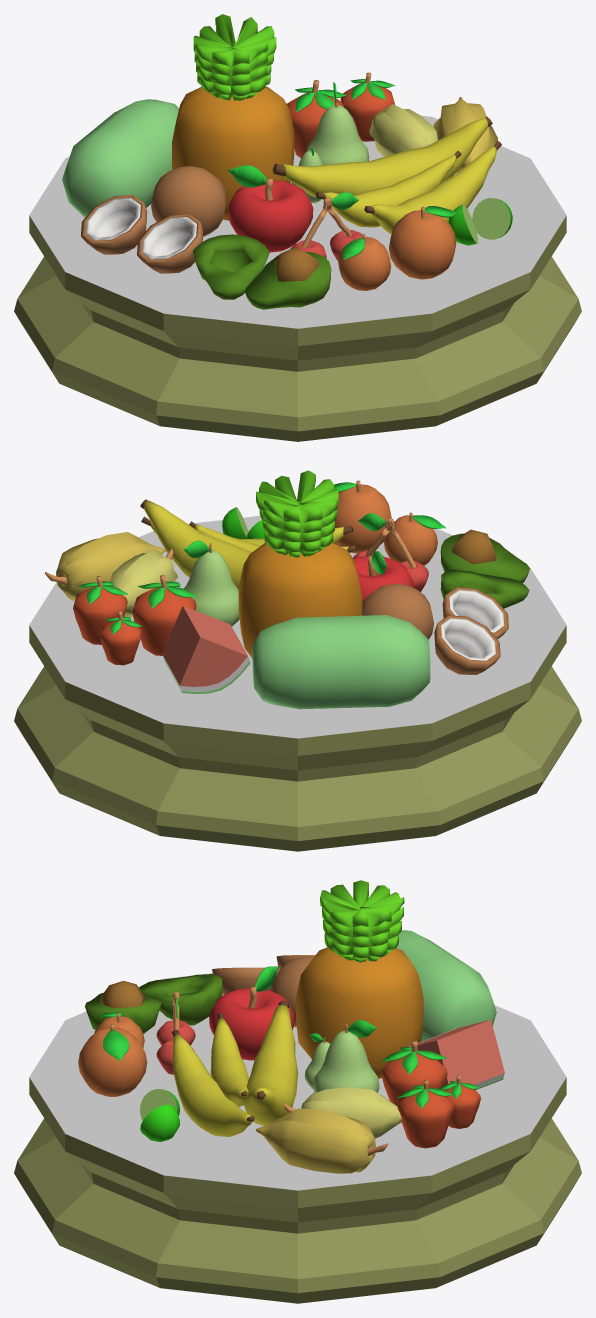
File: Low_Poly_Fruits_Pack_By_Edwin3D.dae
The picture shows the model from 3 angles, top to bottom: view 1: azimuth 30°, elevation 25°; view 2: azimuth 150°, elevation 25°; view 3: azimuth 270°, elevation 25°; orthographic projection.
Parts seen in each view (by area): view 1: Base, Base_001, PineApple1, Banana_top_001, WaterMelon0, Apple_Leaf, Cherry_Leaf_001, Avocado_Seed, coco0, Avocado1, coco1, coco3 (+8 smaller); view 2: Base, Base_001, WaterMelon0, PineApple1, WaterMelon3, Banana_top_001, StarFruitB, coco1, Pear_Leaf, Avocado_Seed, StrawberryB_002, Cherry_Leaf_001 (+10 smaller); view 3: Base, Base_001, PineApple1, Banana_top_001, StarFruitB, WaterMelon0, Cherry_Leaf_001, WaterMelon3, Apple_Leaf, Pear_Leaf, StarFruitB2, StrawberryB_001 (+10 smaller).
Part boxes in pixels (x1,y1,x2,y2): Base: (14,216,581,441); Base_001: (29,103,566,328); PineApple1: (172,14,294,220); Banana_top_001: (272,116,501,234); WaterMelon0: (62,99,179,217); Apple_Leaf: (228,165,313,252); Cherry_Leaf_001: (389,206,457,279); Avocado_Seed: (245,247,331,309); coco0: (151,166,227,236); Avocado1: (192,234,269,299); coco1: (81,195,147,254); coco3: (137,214,203,273); Base: (14,625,581,851); Base_001: (29,515,566,738); WaterMelon0: (252,615,430,709); PineApple1: (238,470,362,658); WaterMelon3: (162,606,250,693); Banana_top_001: (140,499,356,588); StarFruitB: (45,532,165,600); coco1: (434,615,500,674); Pear_Leaf: (183,540,239,626); Avocado_Seed: (440,529,529,583); StrawberryB_002: (132,575,196,655); Cherry_Leaf_001: (334,480,391,553); Base: (14,1077,581,1303); Base_001: (29,966,566,1190); PineApple1: (296,880,423,1078); Banana_top_001: (171,1000,298,1136); StarFruitB: (256,1108,388,1173); WaterMelon0: (396,930,496,1041); Cherry_Leaf_001: (78,1024,147,1096); WaterMelon3: (409,1019,504,1090); Apple_Leaf: (209,966,294,1060); Pear_Leaf: (313,1020,379,1092); StarFruitB2: (284,1087,401,1138); StrawberryB_001: (397,1080,453,1148).
Size of the model in its own units: 13.12 by 13.12 by 7.11.
